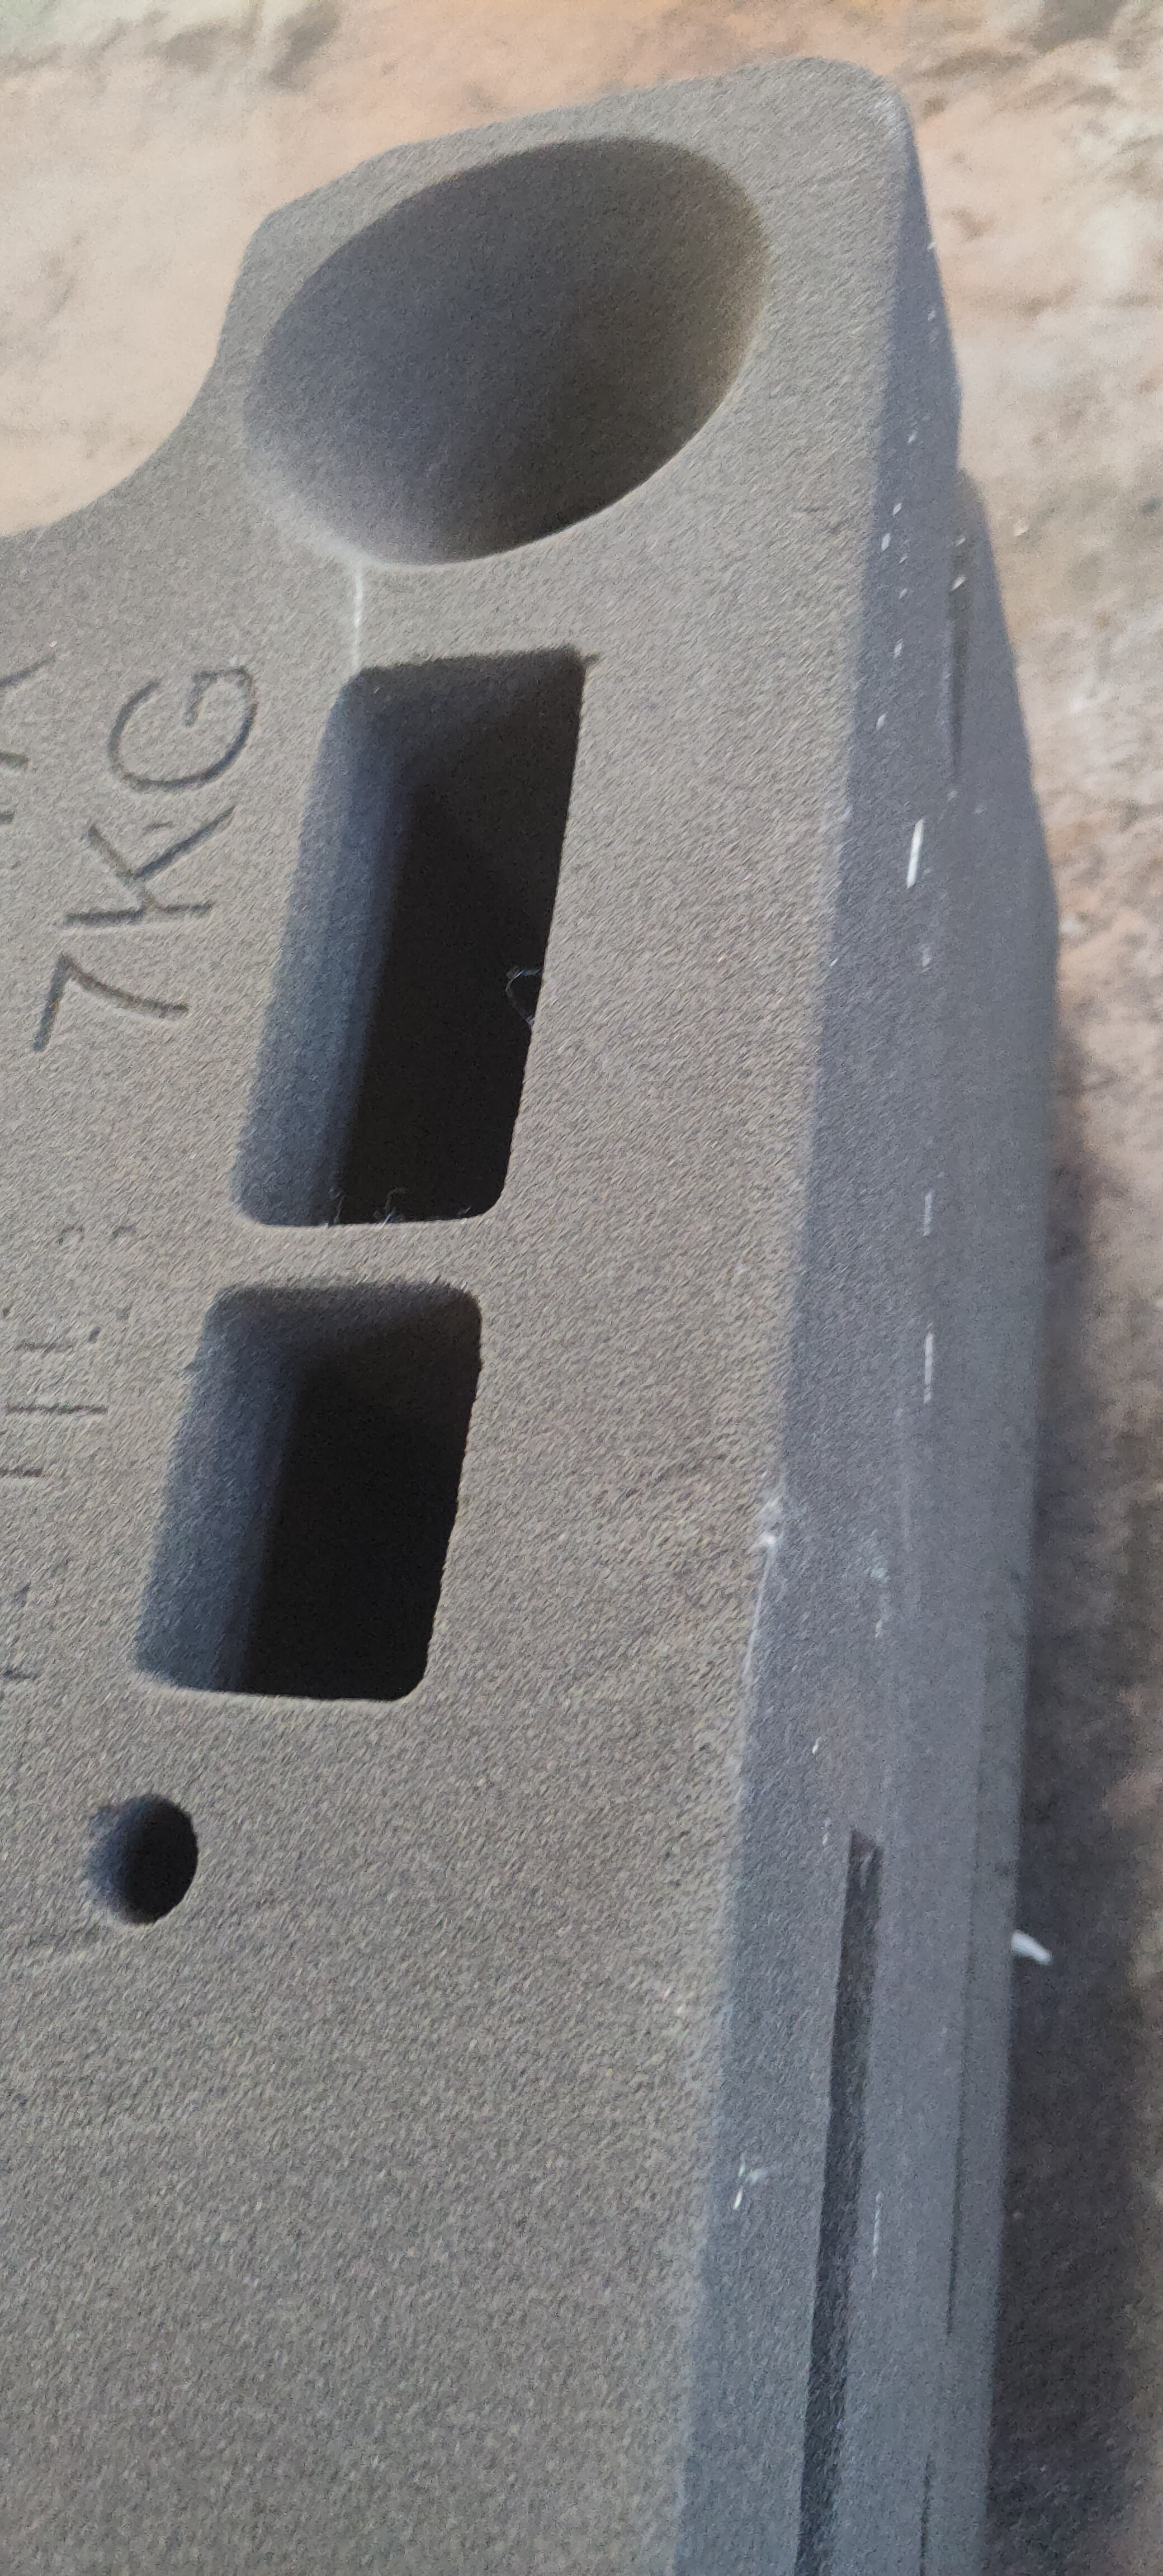pouring hole: (243, 140, 764, 573)
